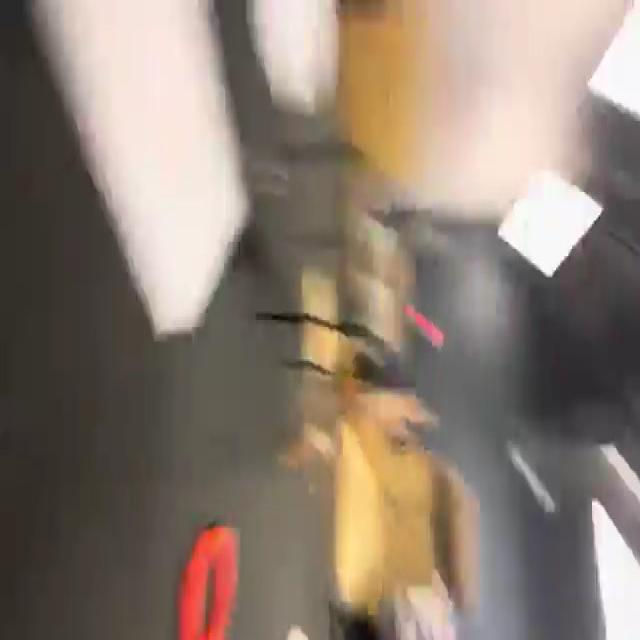note: (178, 528, 244, 640)
